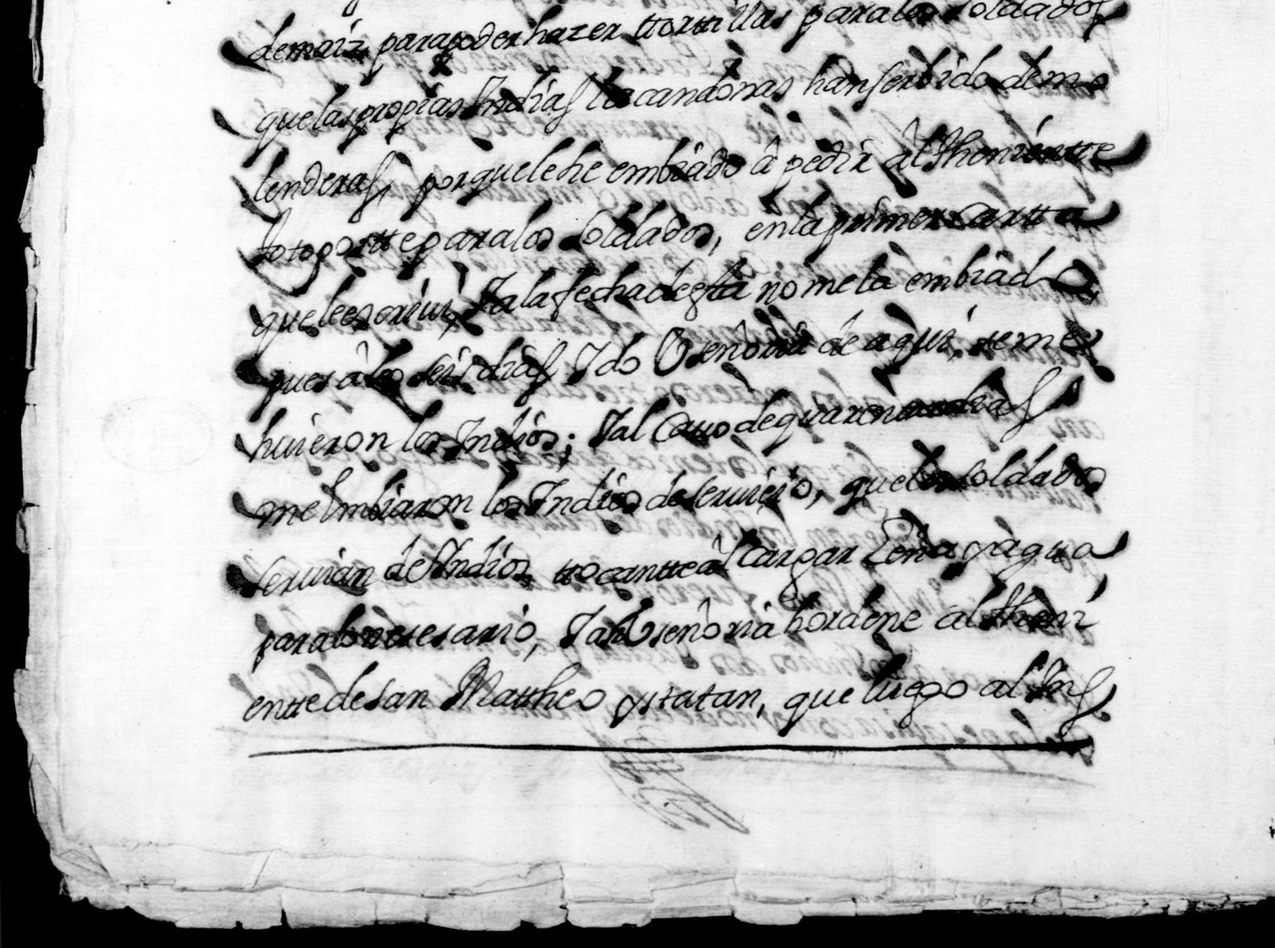lacandon: (586, 57, 794, 110)
